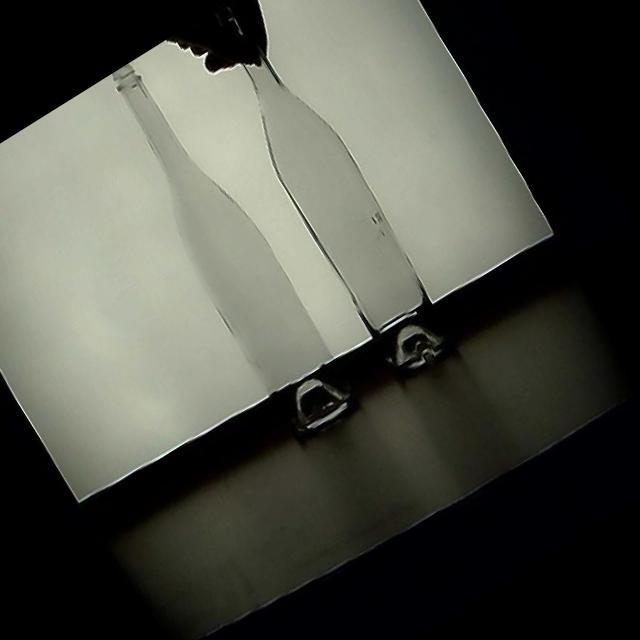BotolKaca: (80, 51, 366, 444), (201, 19, 467, 384)
